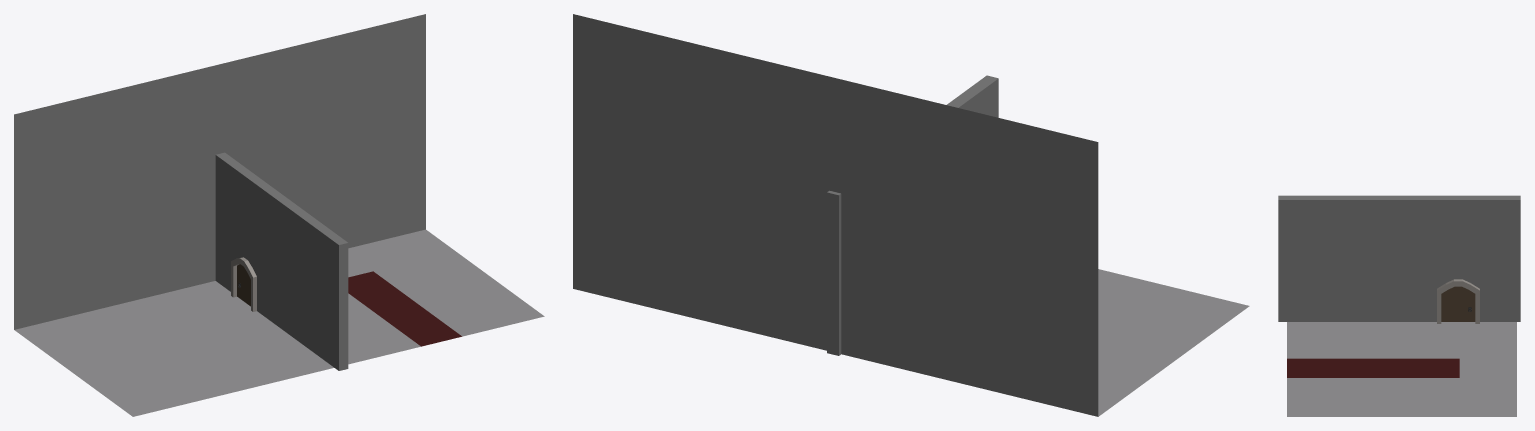
The model's file is Throne_room.FBX.
3 renders of one model, left to right at view 1: azimuth 30°, elevation 25°; view 2: azimuth 150°, elevation 25°; view 3: azimuth 270°, elevation 25°, orthographic. The views are drawn at different scales.
Visible parts, largest first — view 1: Plane001; view 2: Plane001; view 3: Plane001.
Boxes of the visible parts, box(x1,y1,x2,y2) form: Plane001: box(14, 14, 544, 416); Plane001: box(573, 14, 1249, 416); Plane001: box(1278, 195, 1520, 416).
Size of the model in its own units: 1728 by 864 by 911.
